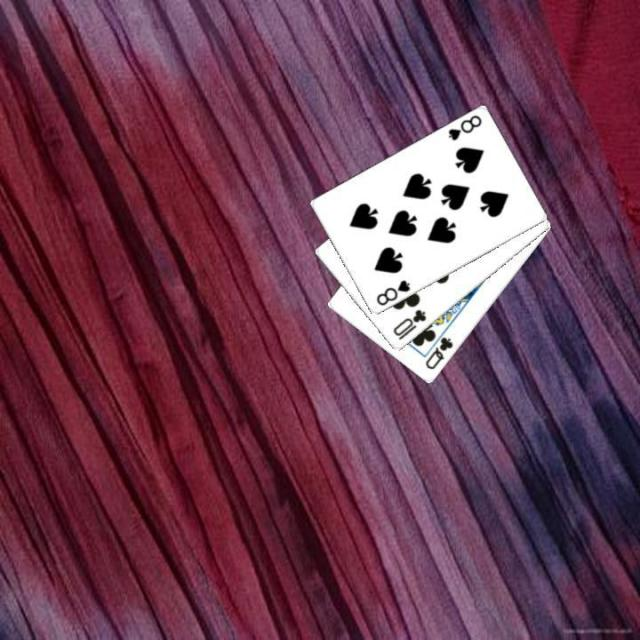10C: (388, 306, 428, 342)
8S: (372, 276, 412, 308), (444, 111, 484, 143)
QC: (421, 334, 455, 372)
